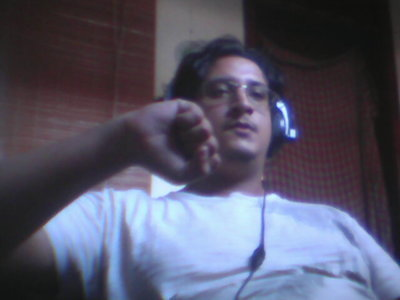closedhandfront: (131, 87, 228, 189)
